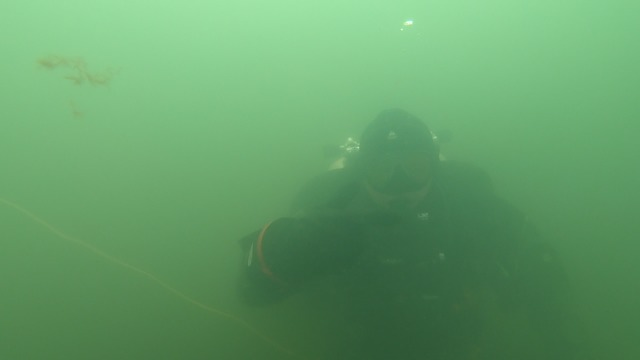Hand: (244, 207, 360, 298)
Head: (338, 103, 456, 218)
